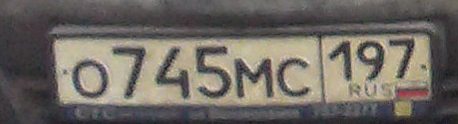character: (156, 43, 197, 106), (196, 44, 235, 103), (69, 51, 114, 102), (109, 44, 149, 101), (233, 56, 276, 101), (276, 57, 318, 103), (389, 33, 419, 80), (329, 39, 357, 85), (358, 38, 386, 82)
